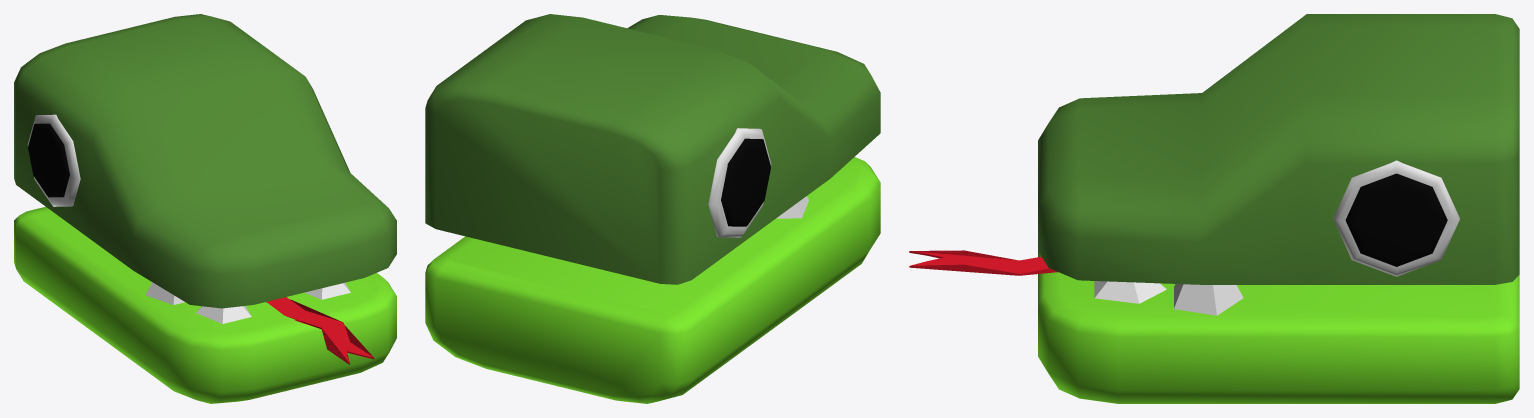
Rendered from GreenSnake.fbx.
3 renders of one model, left to right at view 1: azimuth 30°, elevation 25°; view 2: azimuth 150°, elevation 25°; view 3: azimuth 270°, elevation 25°, orthographic. The views are drawn at different scales.
Parts seen in each view (by area): view 1: Cube.005, Cube, Cylinder.001, Cube.001, Cylinder, Cone.001, Cone, Cone.002; view 2: Cube.005, Cube, Cylinder.001, Cylinder; view 3: Cube.005, Cube, Cylinder.002, Cylinder.004, Cube.001, Cone.003, Cone.
Part boxes in pixels (bbox=[...]): Cube.005: bbox=[14, 14, 396, 308]; Cube: bbox=[14, 206, 396, 403]; Cylinder.001: bbox=[28, 123, 69, 197]; Cube.001: bbox=[266, 297, 374, 364]; Cylinder: bbox=[27, 114, 80, 206]; Cone.001: bbox=[196, 306, 251, 323]; Cone: bbox=[304, 282, 350, 299]; Cone.002: bbox=[145, 282, 184, 304]; Cube.005: bbox=[425, 14, 880, 284]; Cube: bbox=[425, 157, 880, 403]; Cylinder.001: bbox=[721, 138, 770, 226]; Cylinder: bbox=[708, 128, 771, 237]; Cube.005: bbox=[1038, 14, 1519, 284]; Cube: bbox=[1038, 251, 1519, 403]; Cylinder.002: bbox=[1345, 173, 1447, 266]; Cylinder.004: bbox=[1333, 160, 1459, 276]; Cube.001: bbox=[909, 250, 1057, 275]; Cone.003: bbox=[1174, 284, 1243, 315]; Cone: bbox=[1094, 281, 1166, 303].
Size of the model in its own units: 218 by 205 by 380.
